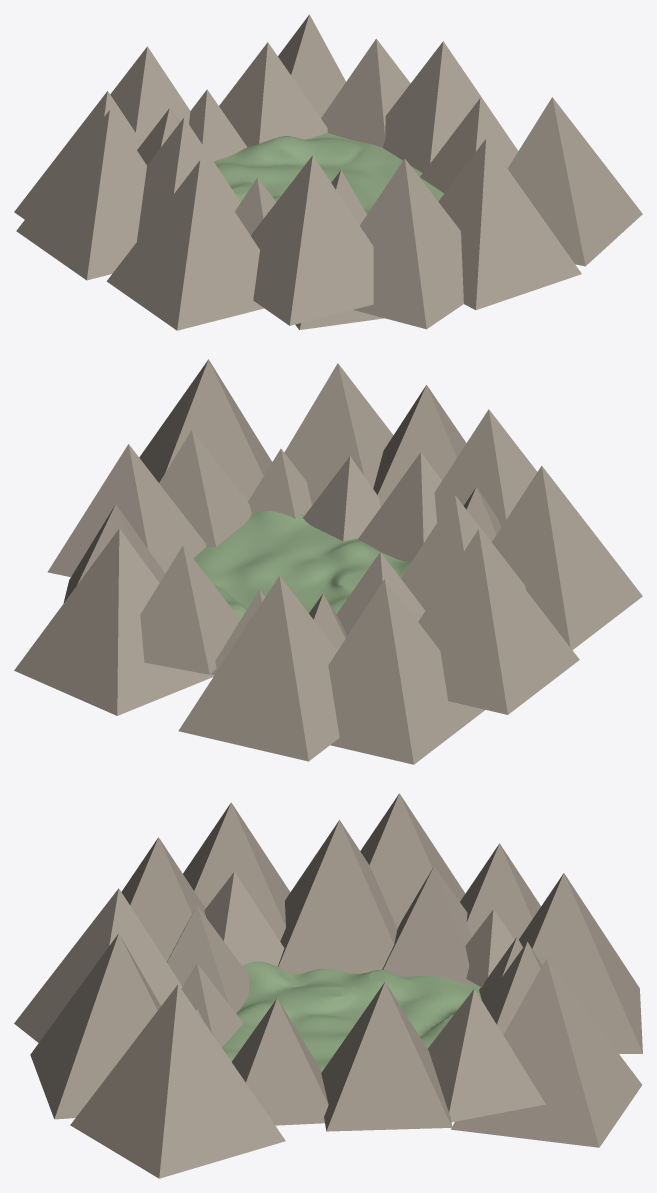
Rendered from boicanh.fbx.
3 views of the same model, one above another, from view 1: azimuth 30°, elevation 25°; view 2: azimuth 150°, elevation 25°; view 3: azimuth 270°, elevation 25° (orthographic). The views are drawn at different scales.
Visible parts, largest first — view 1: pPyramid13, pPyramid14, pPyramid16, pPyramid17, pPyramid15, pPyramid21, pPlane1, pPyramid1, pPyramid3, pPyramid4, pPyramid12, pPyramid19 (+7 smaller); view 2: pPyramid19, pPyramid17, pPyramid18, pPyramid20, pPyramid13, pPlane1, pPyramid3, pPyramid21, pPyramid1, pPyramid16, pPyramid14, pPyramid2 (+10 smaller); view 3: pPyramid21, pPyramid20, pPlane1, pPyramid1, pPyramid12, pPyramid16, pPyramid19, pPyramid4, pPyramid2, pPyramid15, pPyramid11, pPyramid13 (+9 smaller).
Part boxes in pixels (left/top/right/bottom): pPyramid13: left=106, top=160, right=264, bottom=330; pPyramid14: left=250, top=155, right=373, bottom=325; pPyramid16: left=438, top=139, right=581, bottom=309; pPyramid17: left=16, top=110, right=146, bottom=280; pPyramid15: left=353, top=158, right=463, bottom=329; pPyramid21: left=507, top=97, right=642, bottom=266; pPlane1: left=213, top=133, right=443, bottom=214; pPyramid1: left=382, top=41, right=518, bottom=172; pPyramid3: left=219, top=42, right=327, bottom=146; pPyramid4: left=321, top=38, right=410, bottom=147; pPyramid12: left=137, top=117, right=240, bottom=241; pPyramid19: left=110, top=46, right=190, bottom=142; pPyramid19: left=178, top=576, right=339, bottom=761; pPyramid17: left=418, top=529, right=579, bottom=714; pPyramid18: left=328, top=579, right=485, bottom=764; pPyramid20: left=14, top=528, right=214, bottom=715; pPyramid13: left=492, top=466, right=642, bottom=649; pPlane1: left=193, top=510, right=411, bottom=619; pPyramid3: left=140, top=545, right=240, bottom=674; pPyramid21: left=139, top=359, right=272, bottom=501; pPyramid1: left=47, top=444, right=205, bottom=576; pPyramid16: left=284, top=363, right=393, bottom=505; pPyramid14: left=434, top=409, right=537, bottom=527; pPyramid2: left=159, top=430, right=251, bottom=547; pPyramid21: left=70, top=984, right=285, bottom=1178; pPyramid20: left=451, top=958, right=642, bottom=1147; pPlane1: left=221, top=961, right=481, bottom=1071; pPyramid1: left=321, top=982, right=452, bottom=1131; pPyramid12: left=277, top=820, right=397, bottom=974; pPyramid16: left=30, top=933, right=160, bottom=1119; pPyramid19: left=519, top=873, right=642, bottom=1053; pPyramid4: left=428, top=988, right=545, bottom=1122; pPyramid2: left=232, top=998, right=328, bottom=1125; pPyramid15: left=14, top=888, right=182, bottom=1042; pPyramid11: left=382, top=866, right=476, bottom=985; pPyramid13: left=183, top=802, right=290, bottom=941.
Bounding box in the file's own units: 454 × 146 × 447.
